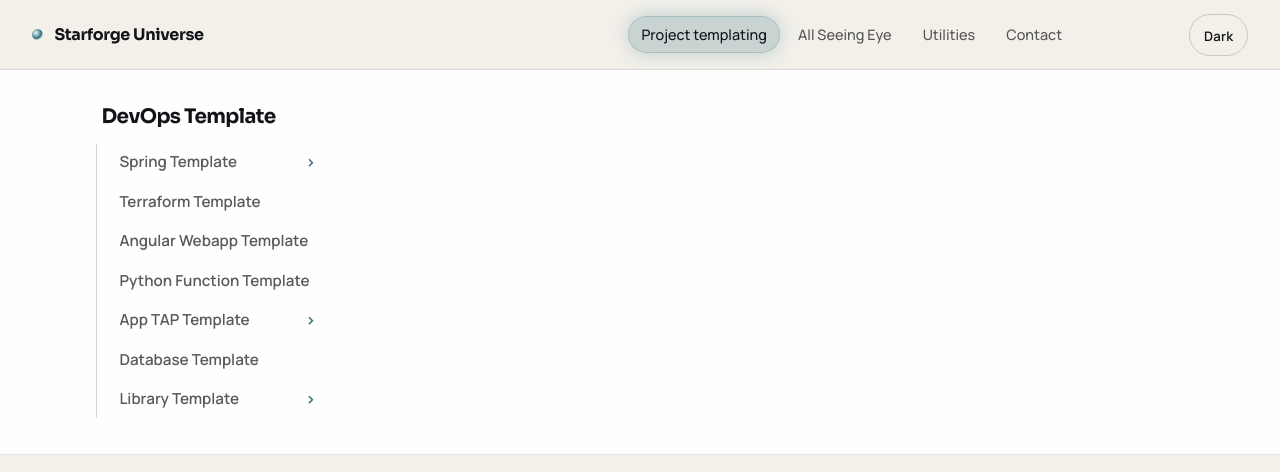
Test: SiteNavComponent › should show Composed from flyout when App TAP Template is hovered
The width and height of the screenshot is (1280, 472).
Hover over the list item with class "has-nested" showing "App TAP Template ›": (218, 320) [111,302,325,339]
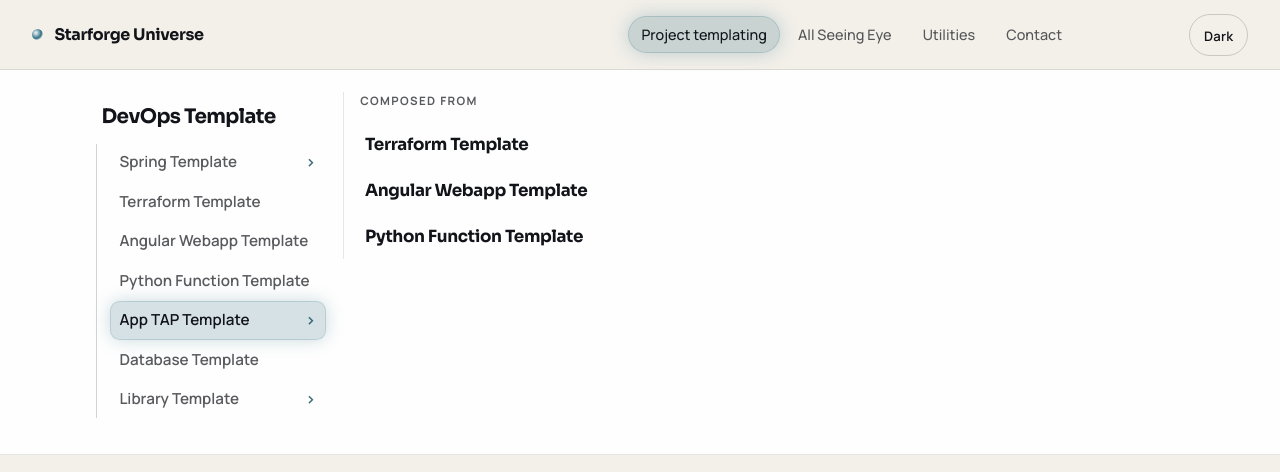
Expected: the text "Terraform Template" is shown, [119,191,261,212]
Expected: the text with class "site-nav__mega-flyout-label" reads "Composed from", [360,93,478,108]
